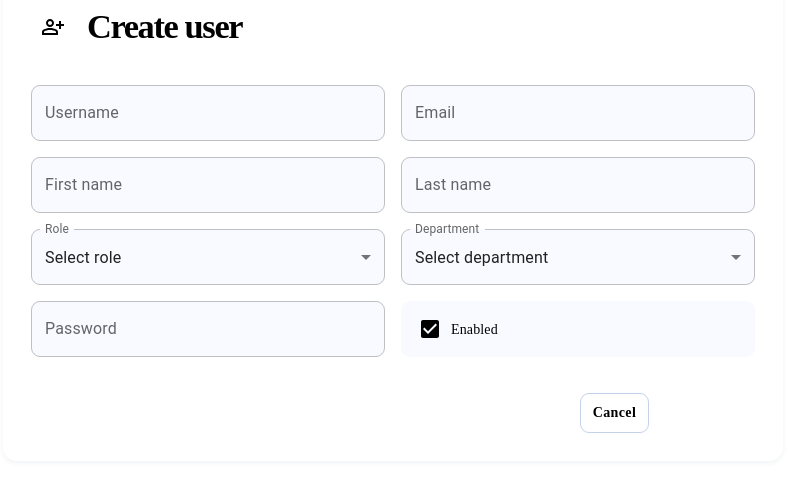
UserForm › omits the ADMIN option when granting roles is restricted in create mode
The width and height of the screenshot is (787, 479).
Click the dropdown labelled "role". click: x=83, y=257
box: 45,248 -> 121,266
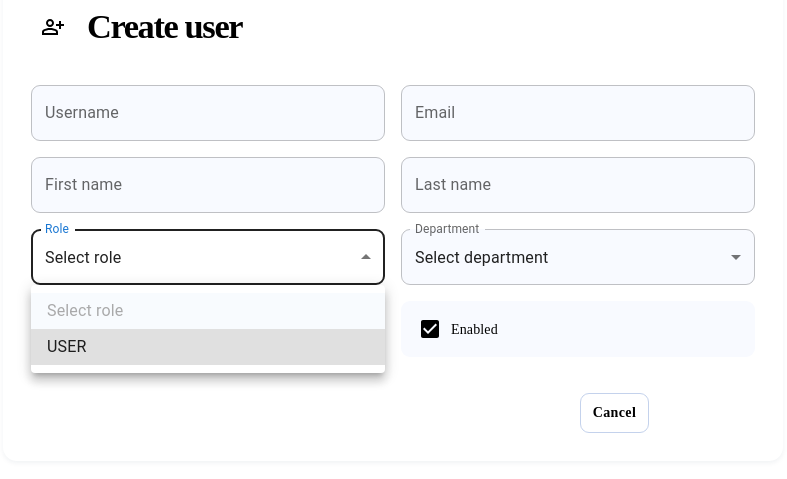
expect the option "USER" is shown: met, box 31,329 -> 385,365
